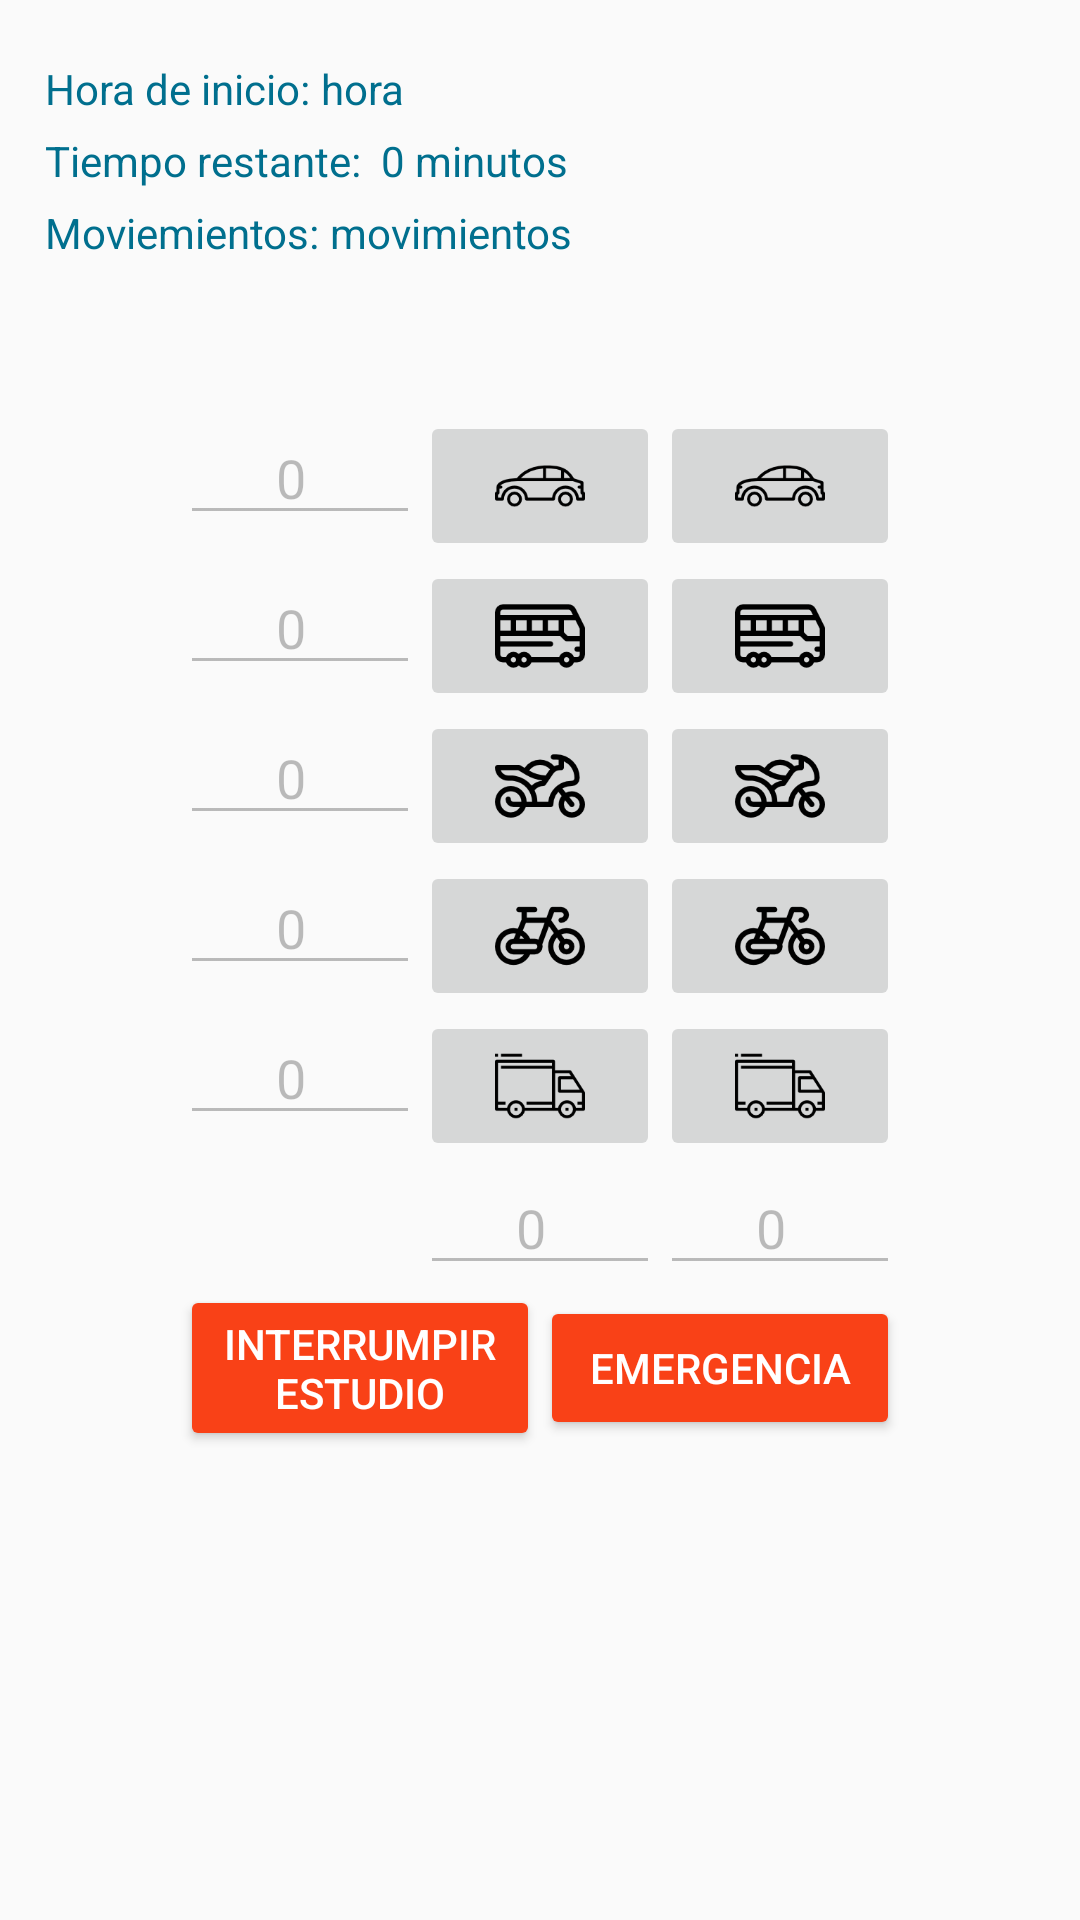

Where icons sit on this 1080 × 1920 app screen, as rect(x1, y1, x2, y2):
bike: rect(432, 879, 648, 993), rect(672, 879, 888, 993)
bus: rect(432, 579, 648, 693), rect(672, 579, 888, 693)
car: rect(432, 429, 648, 543), rect(672, 429, 888, 543)
motorcycle: rect(432, 729, 648, 843), rect(672, 729, 888, 843)
truck: rect(432, 1029, 648, 1143), rect(672, 1029, 888, 1143)
